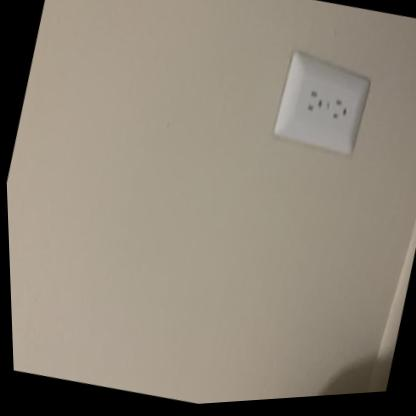OUTLET: (271, 45, 376, 162)
